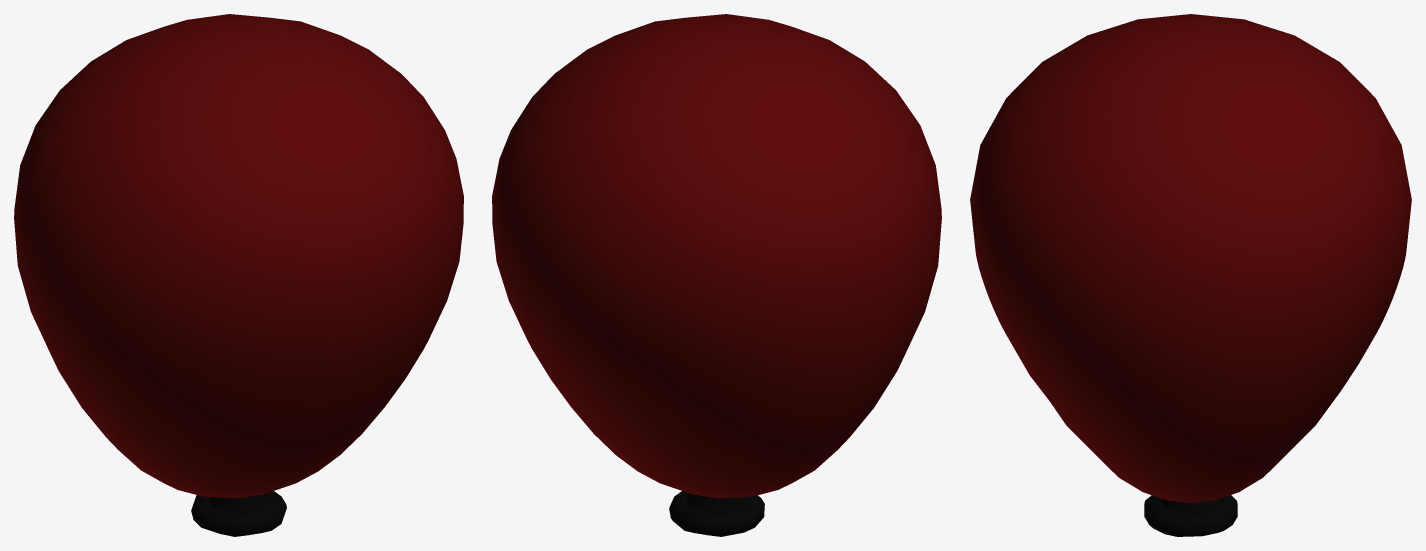
File: Balloon.glb
3 renders of one model, left to right at view 1: azimuth 30°, elevation 25°; view 2: azimuth 150°, elevation 25°; view 3: azimuth 270°, elevation 25°, orthographic.
Parts seen in each view (by area): view 1: Balloon; view 2: Balloon; view 3: Balloon.
Boxes of the visible parts, x1=… form: Balloon: x1=14, y1=14, x2=463, y2=536; Balloon: x1=492, y1=14, x2=941, y2=536; Balloon: x1=970, y1=14, x2=1411, y2=536.
Size of the model in its own units: 0.744 by 0.8714 by 0.7232.
